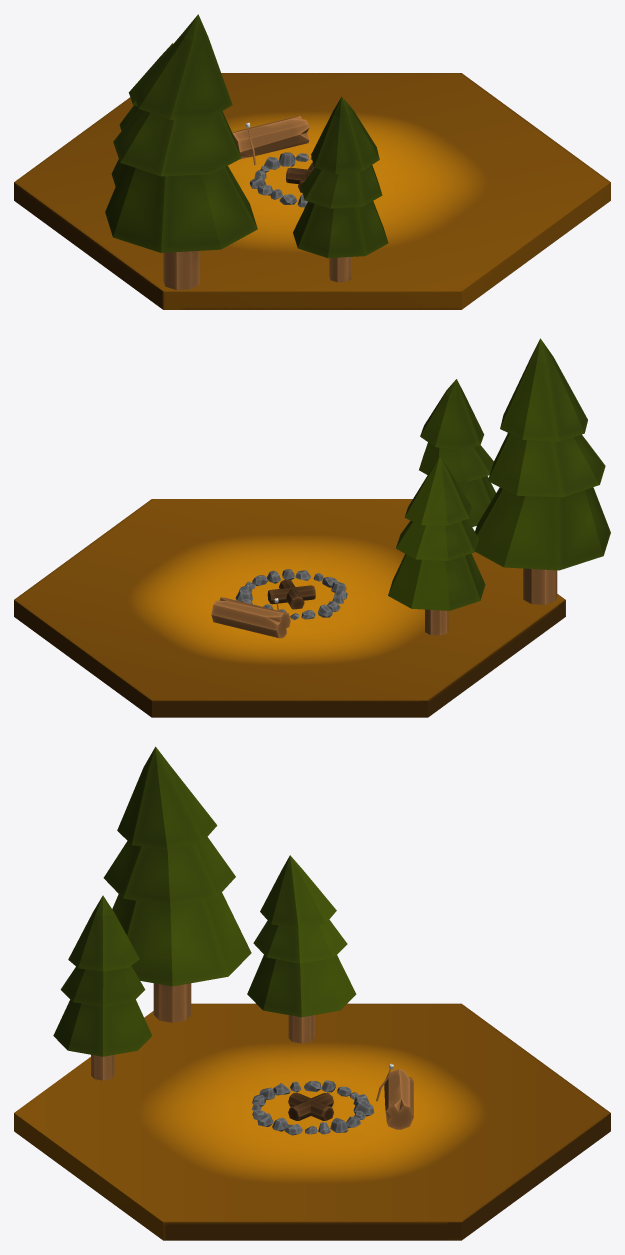
3 renders of one model, top to bottom at view 1: azimuth 30°, elevation 25°; view 2: azimuth 150°, elevation 25°; view 3: azimuth 270°, elevation 25°, orthographic. The views are drawn at different scales.
Visible parts, largest first — view 1: campfire; view 2: campfire; view 3: campfire.
Part boxes in pixels (x1,y1,x2,y2): campfire: (14,14,610,309); campfire: (14,338,610,717); campfire: (14,746,610,1240).
Size of the model in its own units: 0.5305 by 0.299 by 0.556.
1 material, 1 textured.
